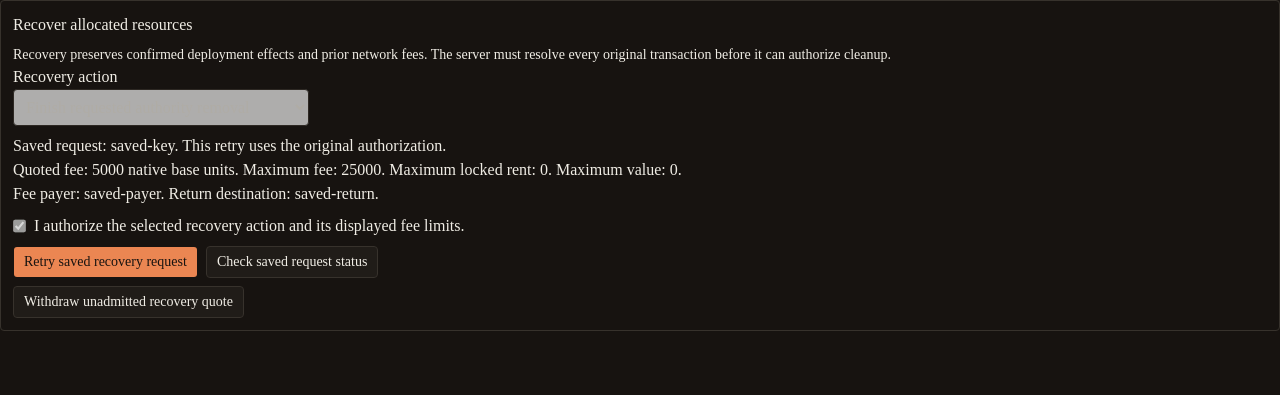
Scenario: shows the saved linked mode and economic limits (camel) and retries exact authorization
Check: the dropdown labelled "Recovery action" shows "Finish requested authority removal", box [13, 89, 309, 126]
Check: the element named "Saved recovery authorization" shows "25000", box [341, 161, 381, 178]
Click the button "Retry saved recovery request" at coordinates (105, 262), box [13, 246, 198, 278]
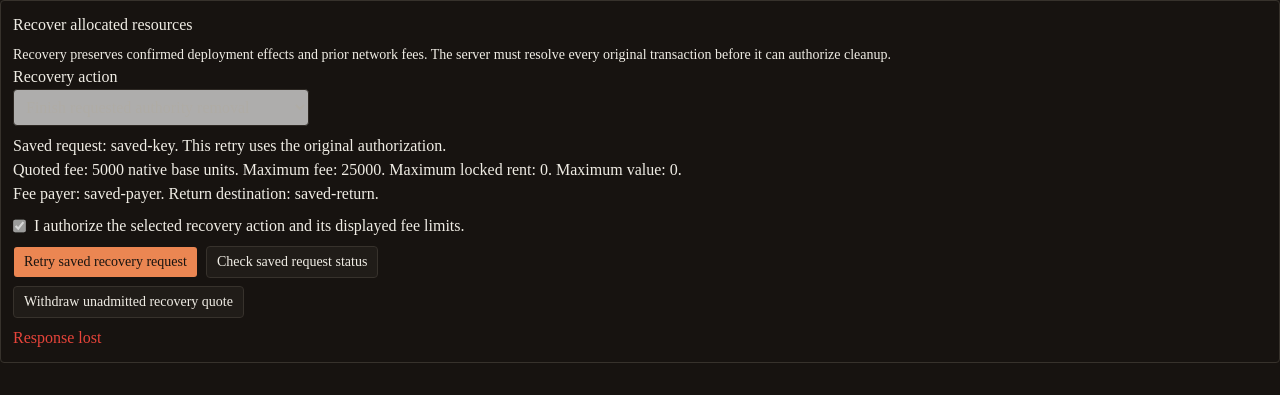
Click the button "Withdraw unadmitted recovery quote" at coordinates (128, 302), box [13, 286, 244, 318]
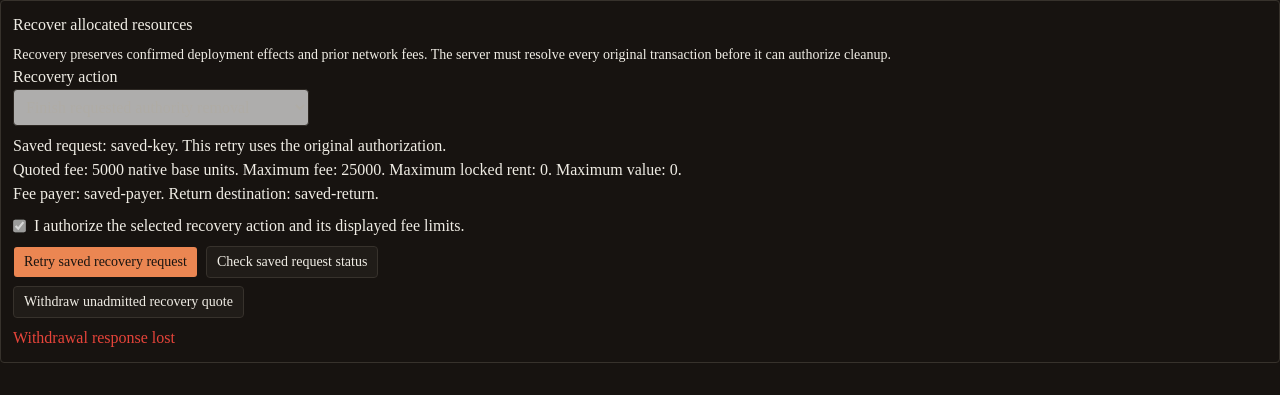
Check: the text "Withdrawal response lost" is shown, box [13, 329, 175, 346]
Click the button "Withdraw unadmitted recovery quote" at coordinates (128, 302), box [13, 286, 244, 318]
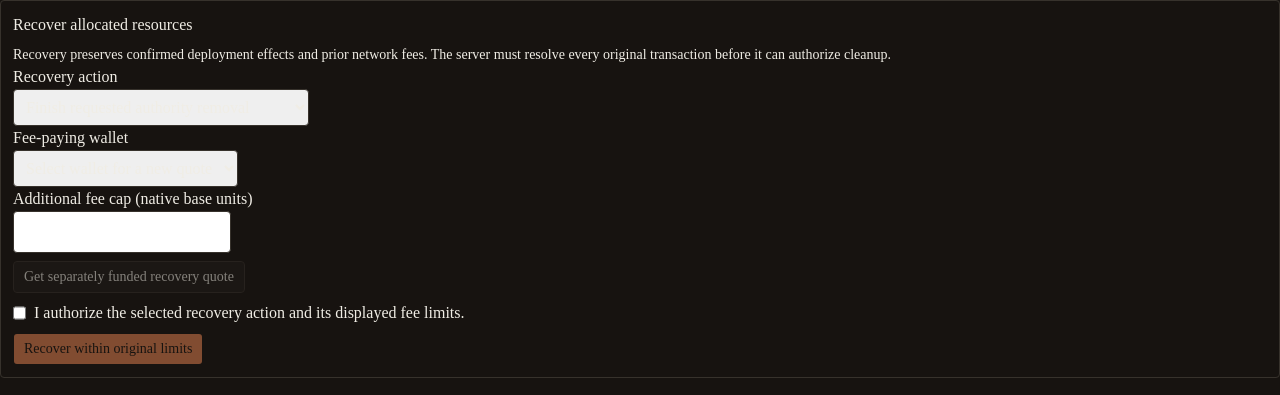
Check: the button "Recover within original limits" is shown, box [13, 333, 203, 365]
Check: the checkbox is not checked, box [13, 301, 26, 325]
